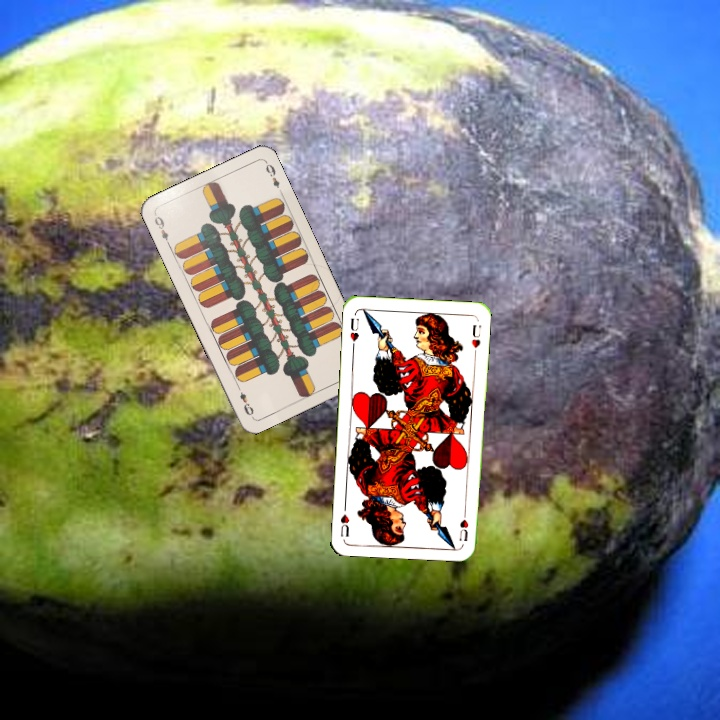E9: (150, 211, 173, 249)
HU: (455, 505, 471, 544), (346, 314, 361, 351)
